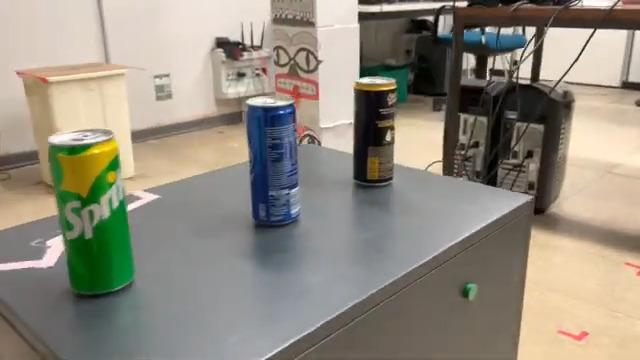Pepsi: (238, 91, 306, 231), (348, 71, 402, 192)
Sprite: (41, 124, 143, 304)
